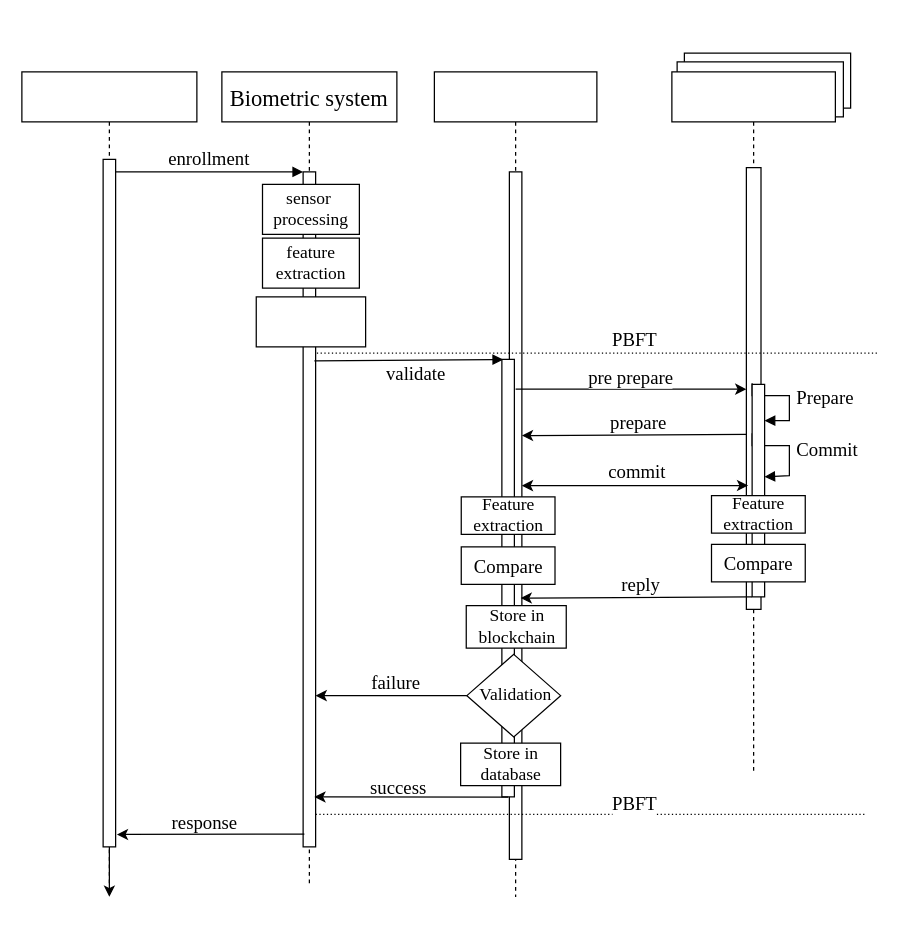
Some shapes in this 900 by 929 pixel diagram are drawn without their labels. Each missing label, with the box of its shape:
Primary Node: (433, 71, 597, 897)
propose found features: (255, 296, 366, 347)
User: (21, 71, 197, 884)
Validators/ Replicas: (671, 71, 835, 772)
